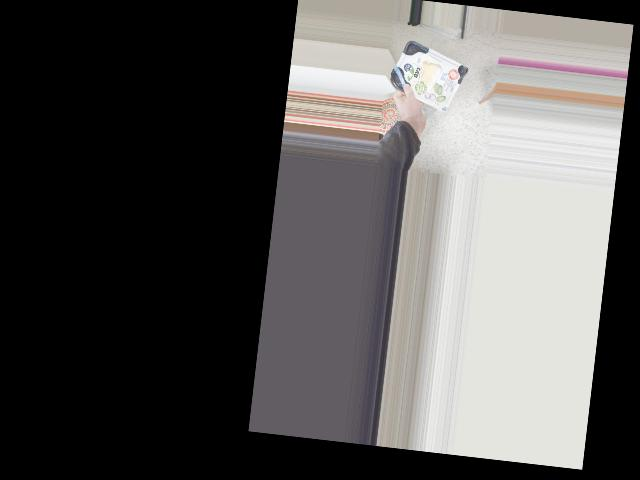cheese: (396, 52, 461, 106)
